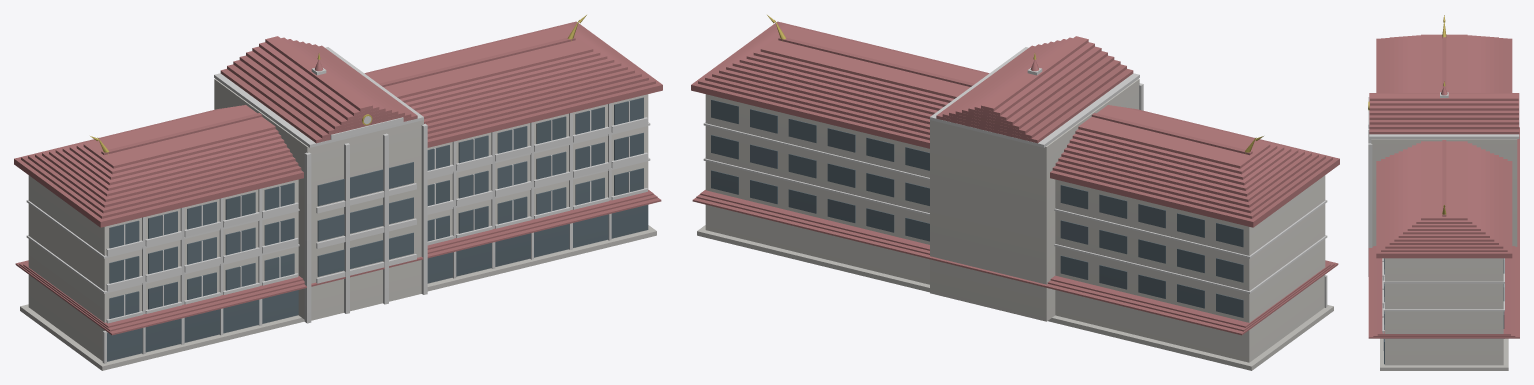
Rendered from institute-block-bare.glb.
The picture shows the model from 3 angles, left to right: view 1: azimuth 30°, elevation 25°; view 2: azimuth 150°, elevation 25°; view 3: azimuth 270°, elevation 25°; orthographic projection. The views are drawn at different scales.
Bounding box in the file's own units: 60 × 23 × 17.88.
